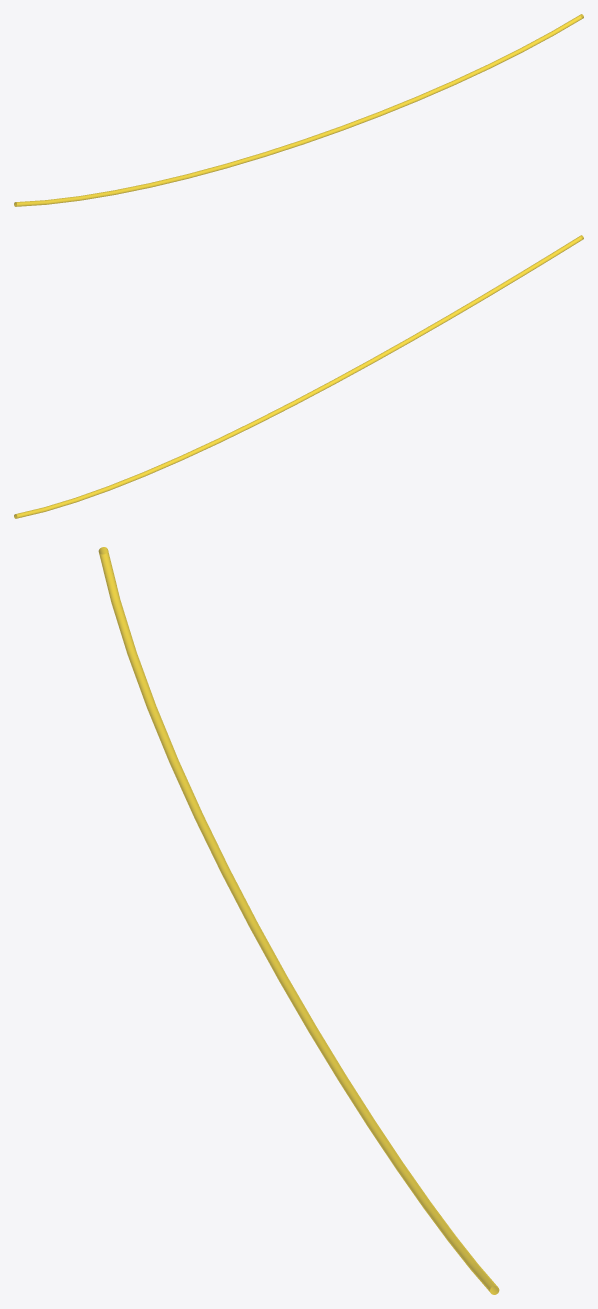
Rendered from Event_17758602_track_73.fbx.
The picture shows the model from 3 angles, top to bottom: view 1: azimuth 30°, elevation 25°; view 2: azimuth 210°, elevation 25°; view 3: azimuth 270°, elevation 25°; orthographic projection. The views are drawn at different scales.
Parts seen in each view (by area): view 1: Model; view 2: Model; view 3: Model.
Boxes of the visible parts, <box> form: Model: <box>14,14,583,206</box>; Model: <box>14,235,583,518</box>; Model: <box>98,547,499,1294</box>.
Bounding box in the file's own units: 6.42 × 0.5723 × 1.67.
